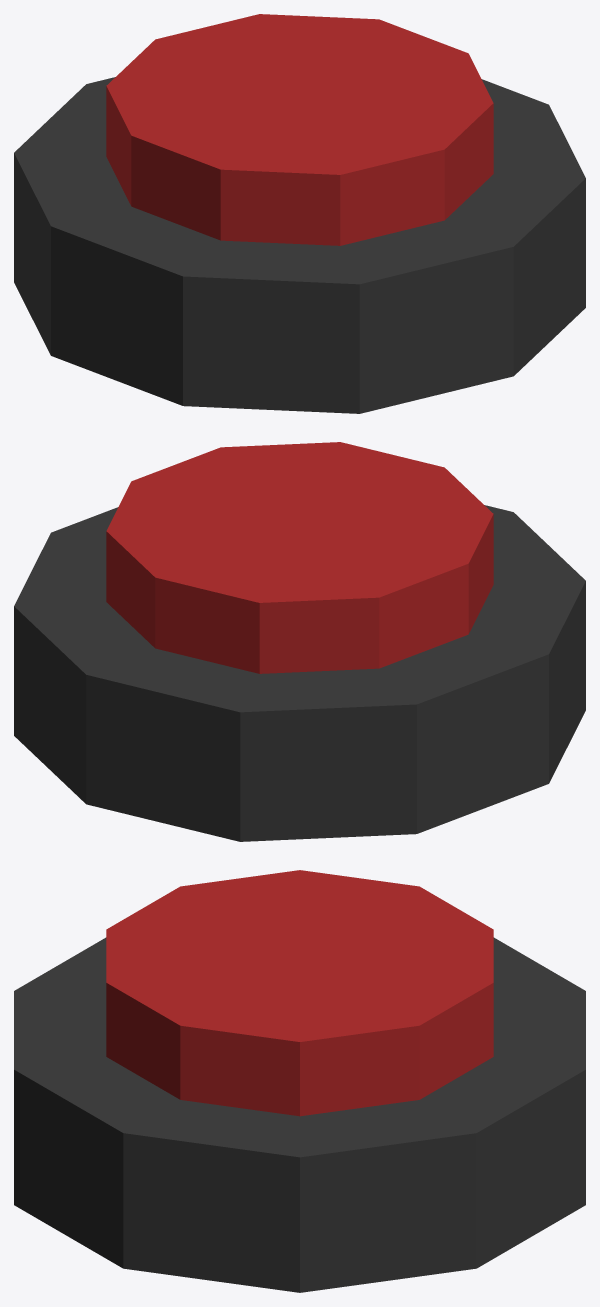
Rendered from MS_Mine.fbx.
3 views of the same model, one above another, from view 1: azimuth 30°, elevation 25°; view 2: azimuth 150°, elevation 25°; view 3: azimuth 270°, elevation 25° (orthographic). The views are drawn at different scales.
Visible parts, largest first — view 1: pCylinder1; view 2: pCylinder1; view 3: pCylinder1.
Part boxes in pixels (<box>): pCylinder1: <box>14,14,585,413</box>; pCylinder1: <box>14,442,585,841</box>; pCylinder1: <box>14,870,585,1292</box>.
Size of the model in its own units: 8.01 by 3.08 by 7.62.
